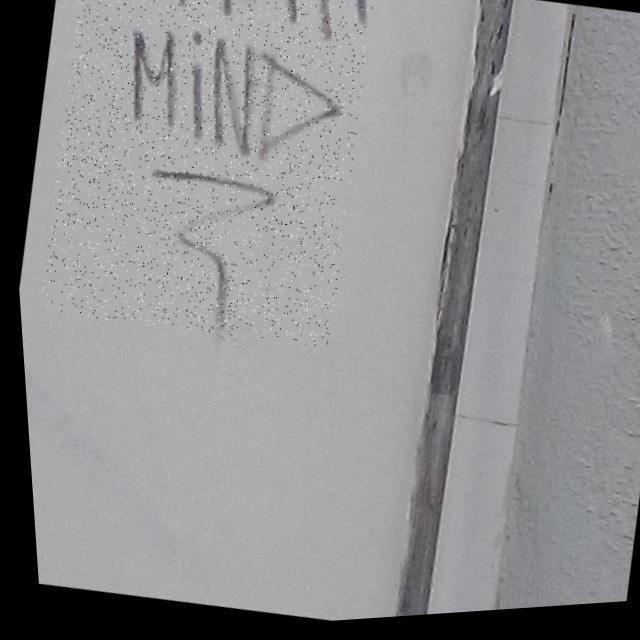-: (19, 0, 394, 367)
